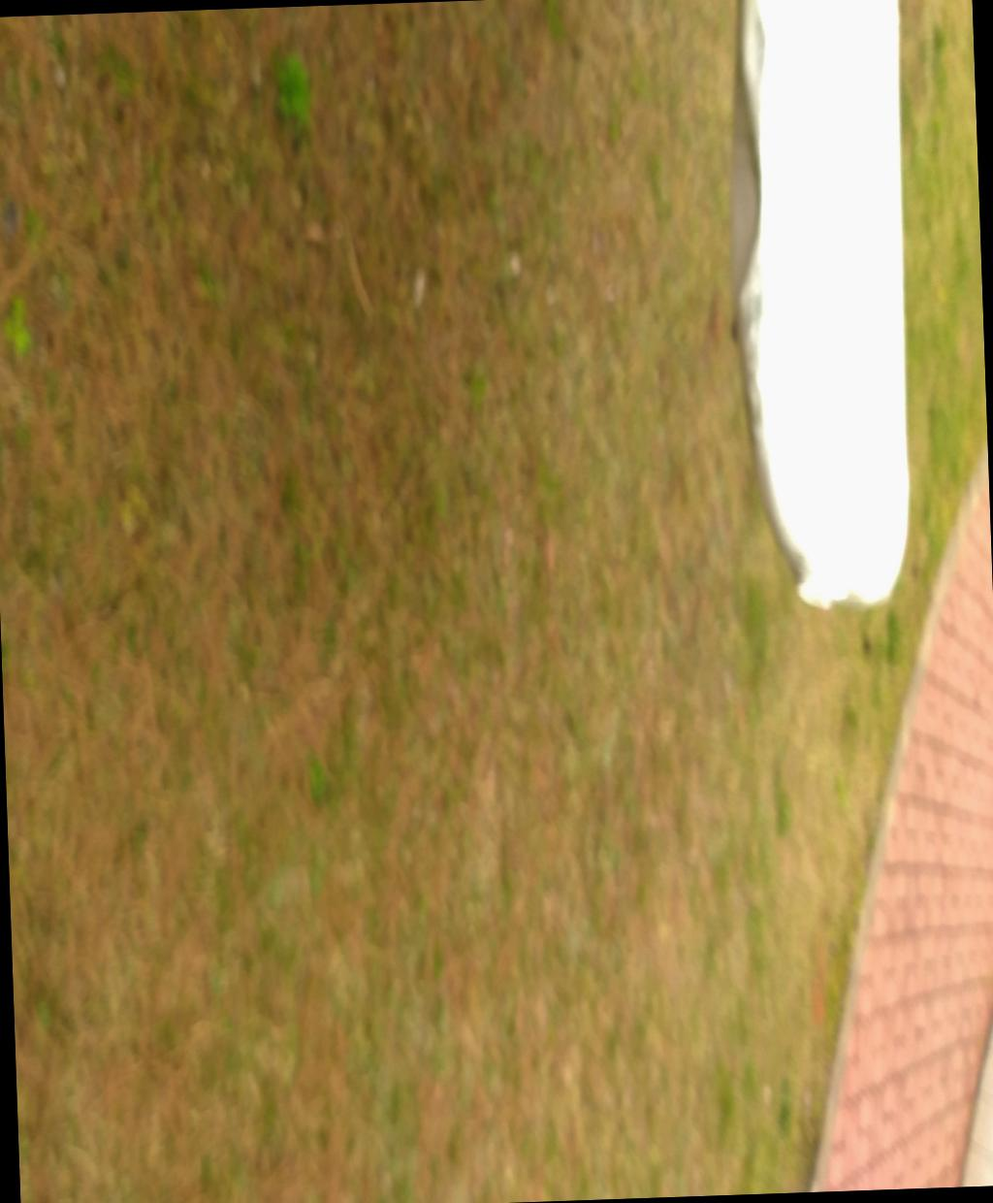dent: (830, 585, 940, 698), (931, 639, 986, 715)
